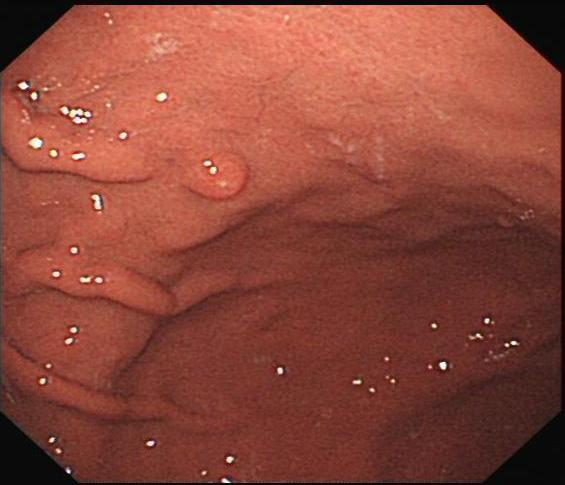Polyp: (182, 152, 249, 205)
